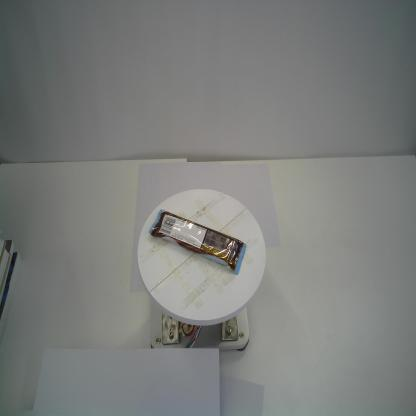Chocolate: (146, 208, 247, 277)
